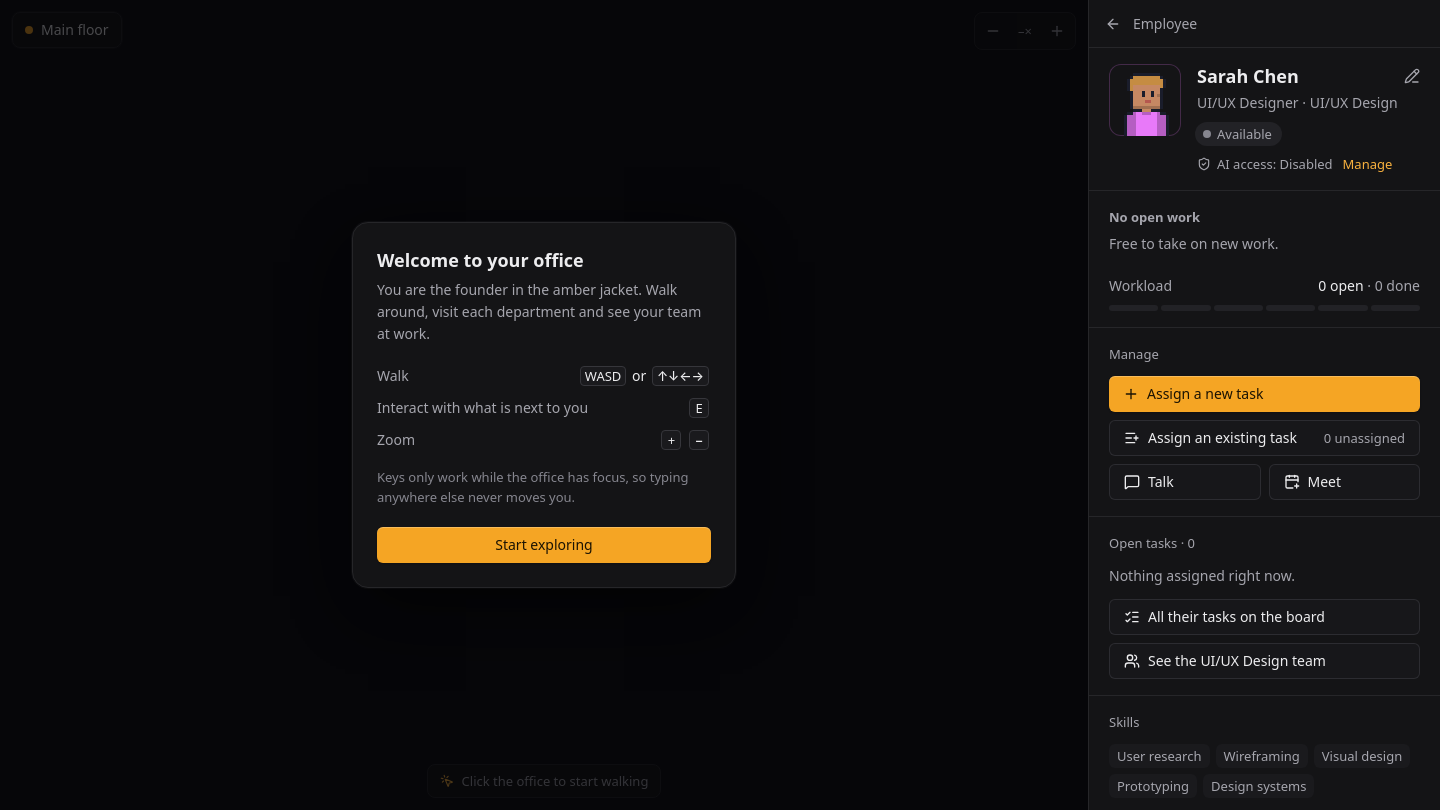
Test case: managing the workforce from the office (Phase 1.6) › assigns a new task with the employee preselected, through the createTask command
Click the button "Assign a new task": (1264, 394) [1109,376,1420,412]
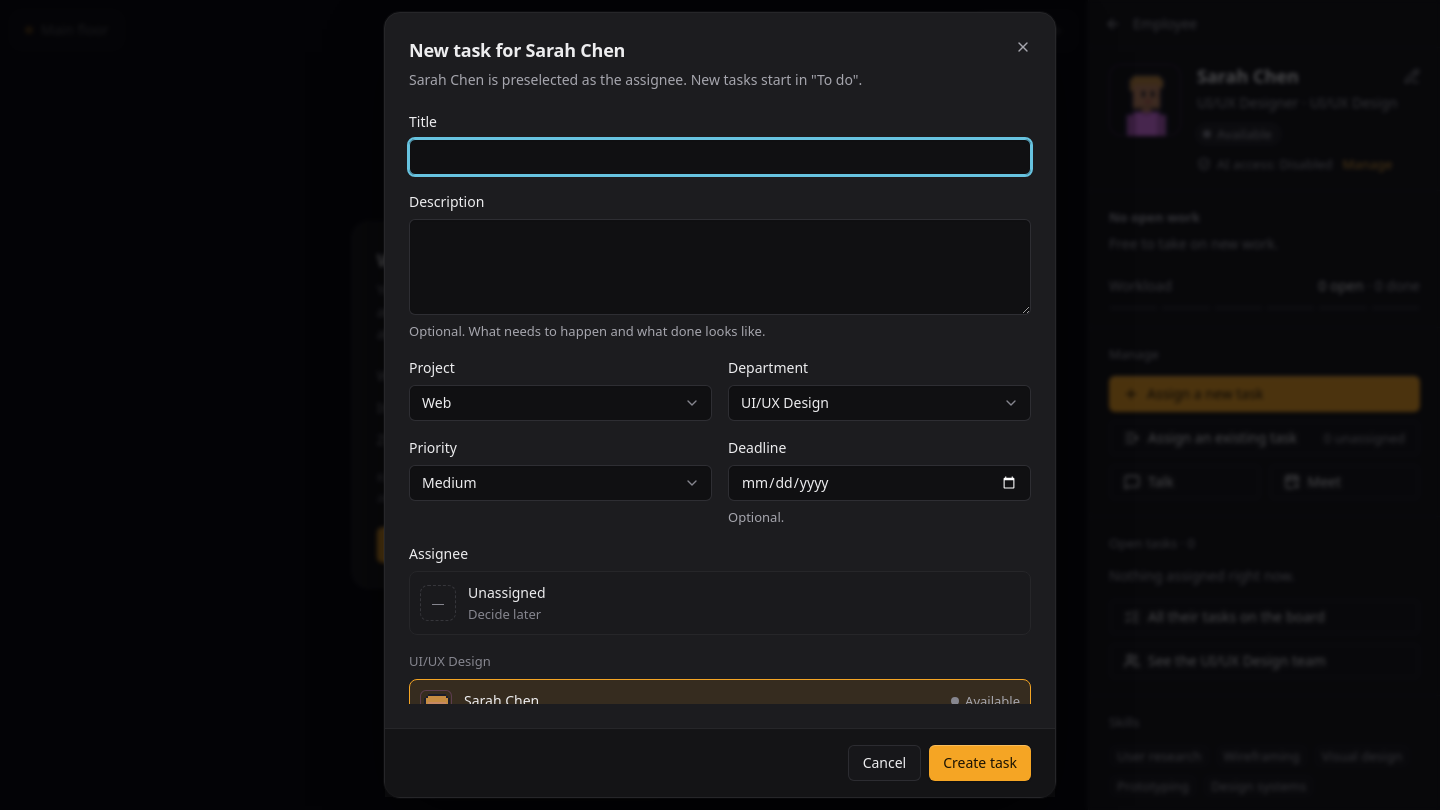
Now the dropdown labelled "Department" shows "UI/UX Design", box [728,385,1031,421]
In the field labelled "Title": (720, 157) [409,139,1031,175], type "Pricing page"
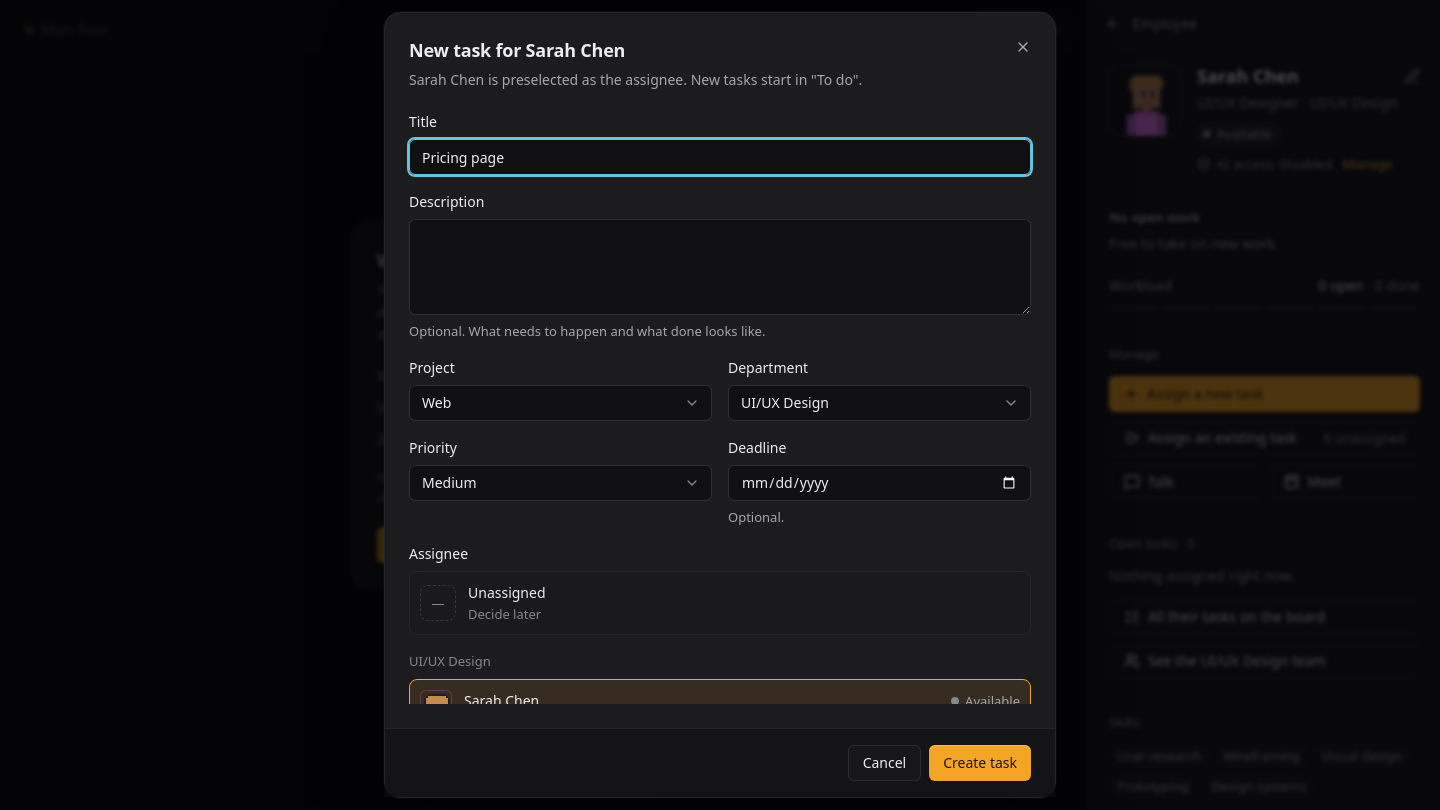
In the date field labelled "Deadline": (880, 483) [728,465,1031,501], type "2026-12-18"
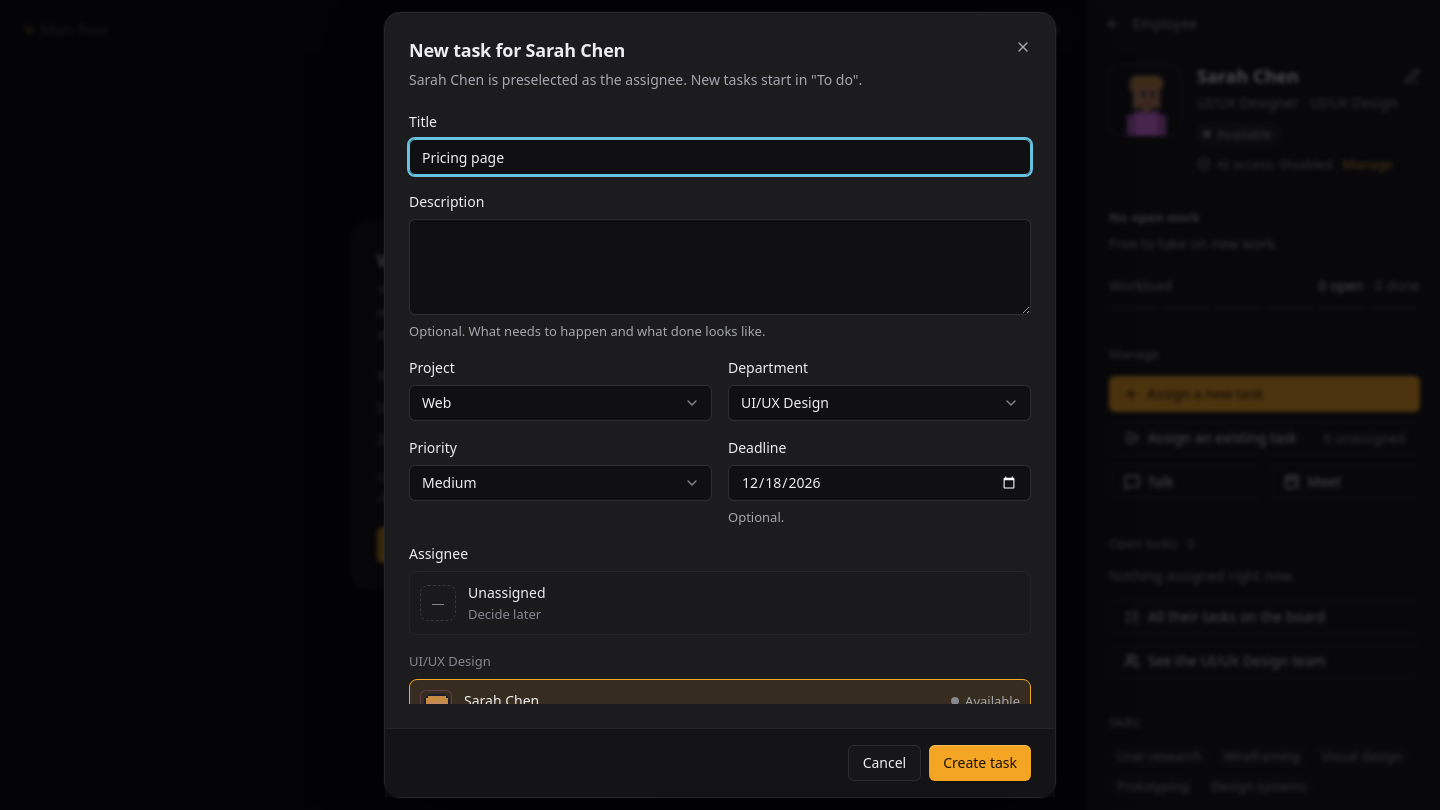
Click the button "Create task": (980, 763) [929,745,1031,781]
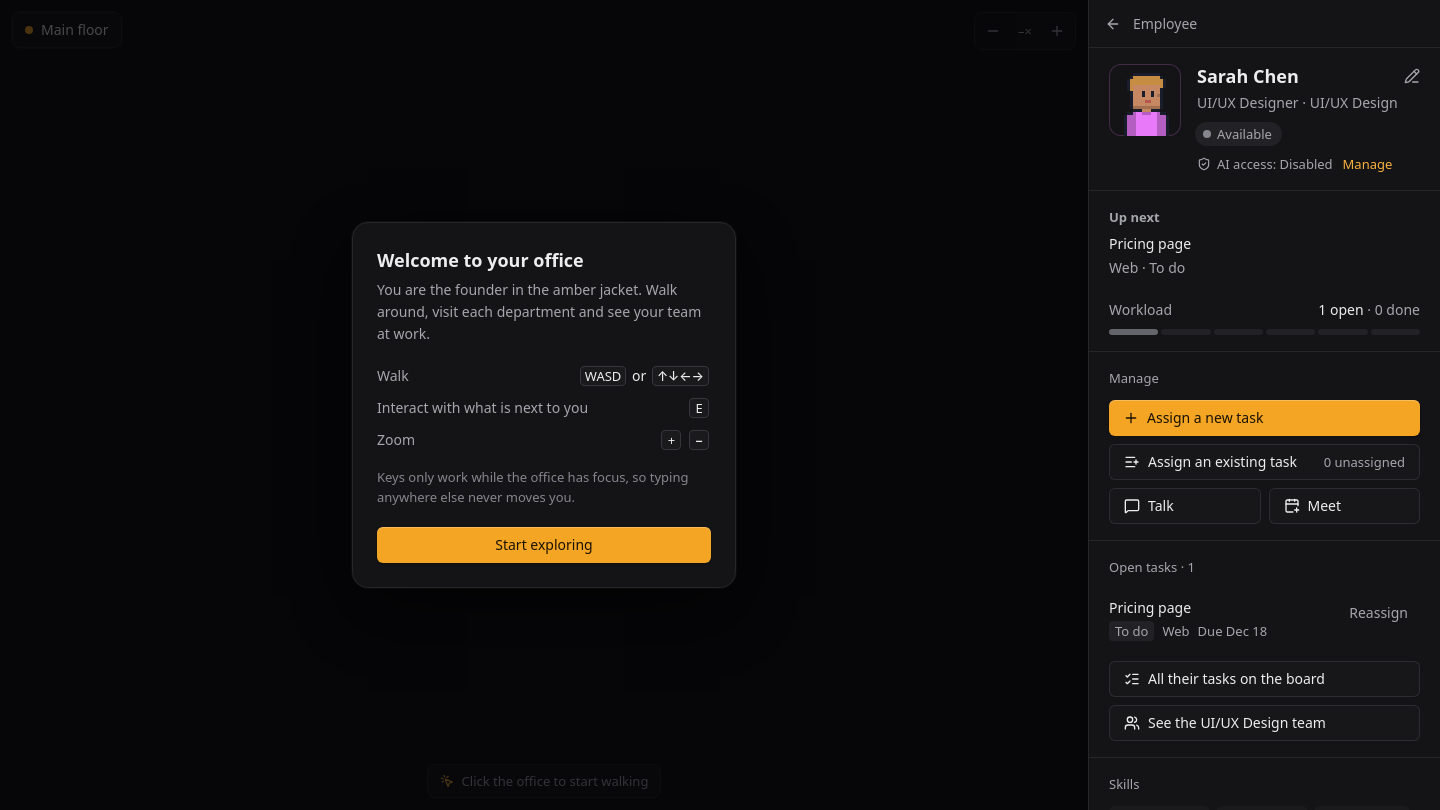
Now the heading "Open tasks · 1" is shown, box [1109,558,1195,576]
Now the button "Pricing page" is shown, box [1109,233,1191,255]
